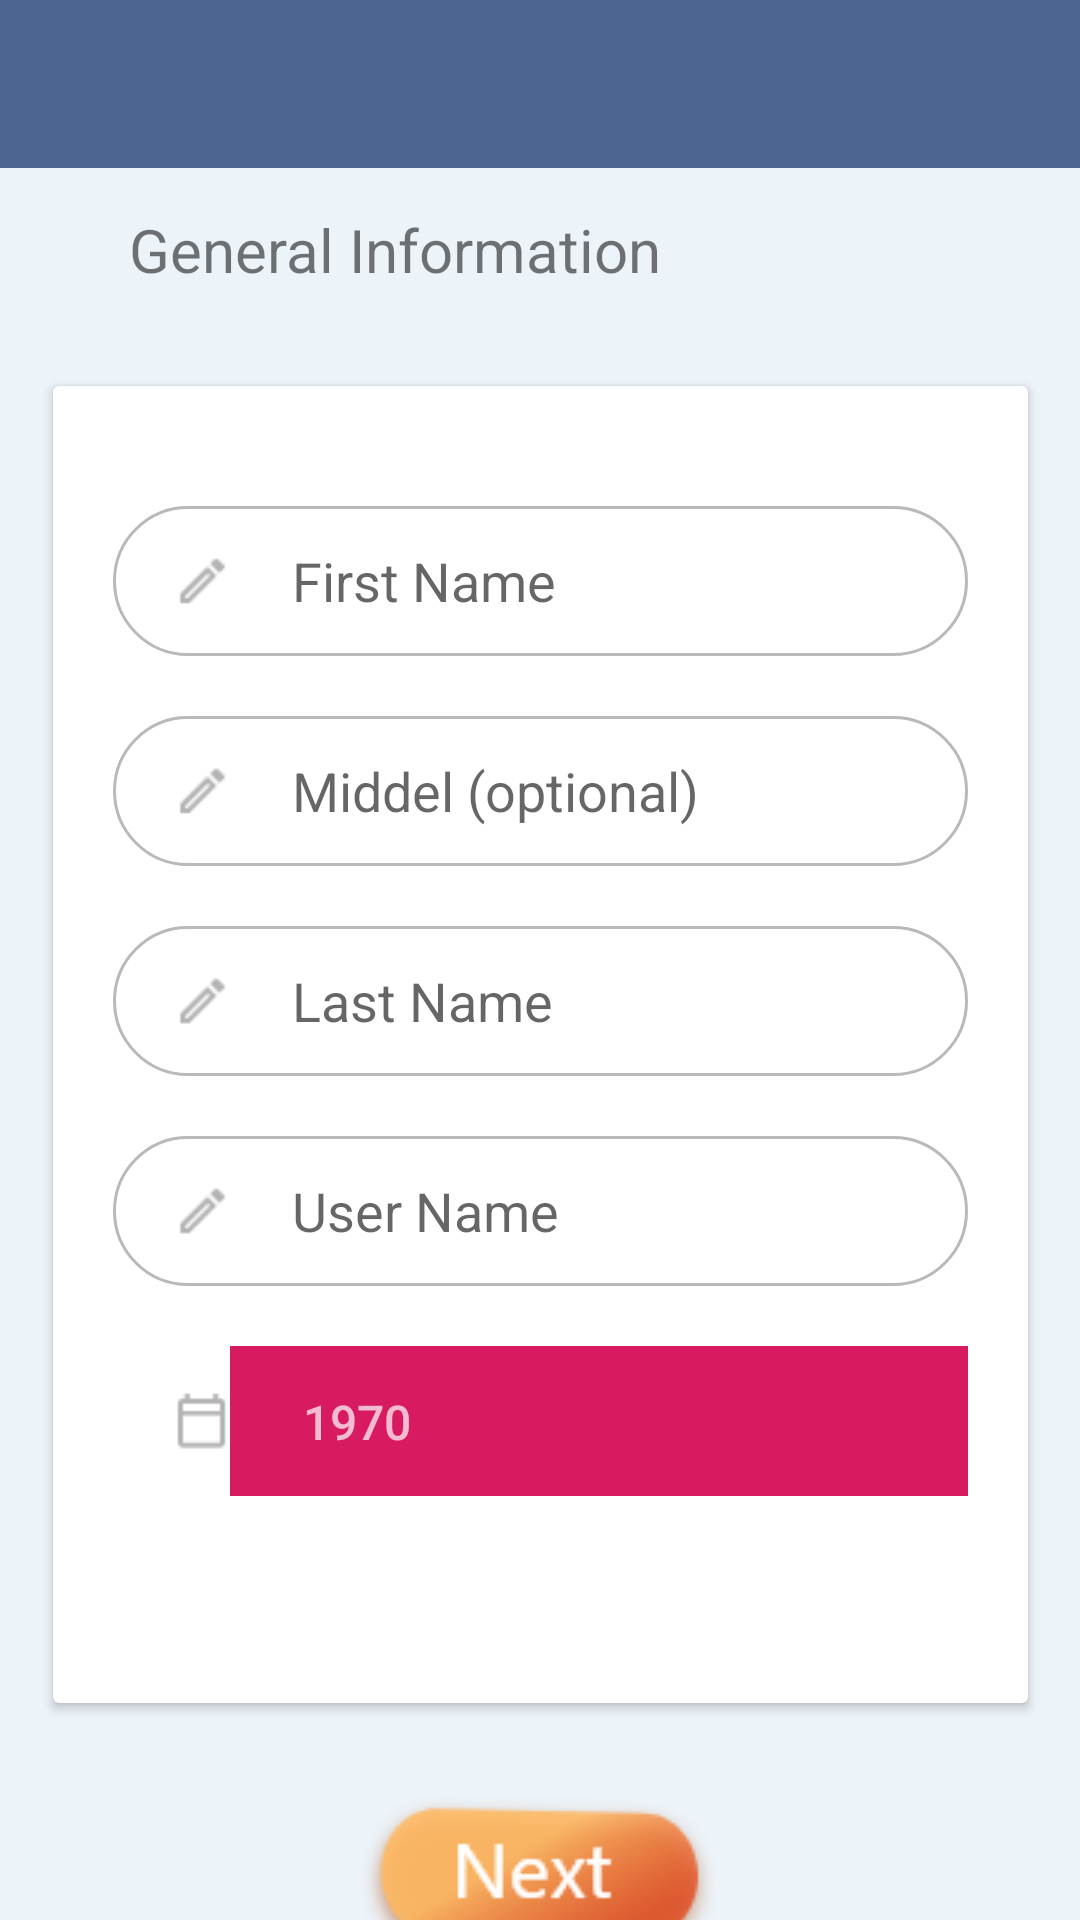

Named icons in this screenshot (1080 × 1920) and their centers, (x,y):
date: (201,1420)
pencil: (202,581), (202,791), (202,1001), (202,1211)
